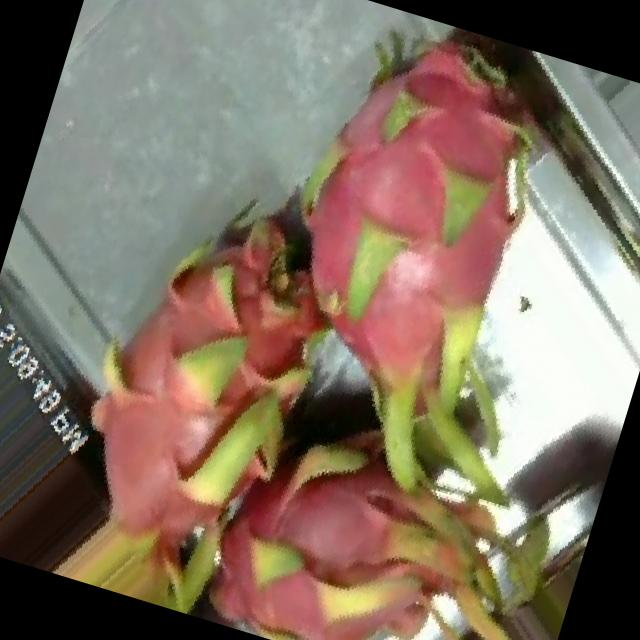Fruit: (387, 611, 552, 640)
